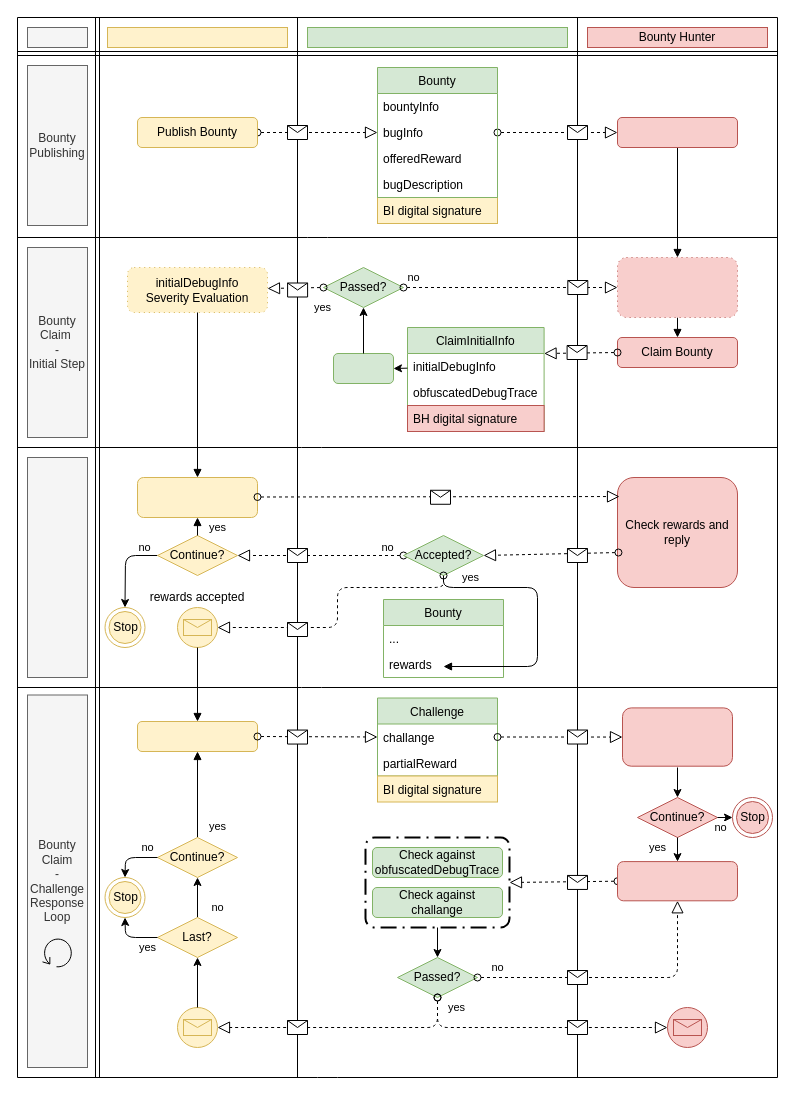
This 796x1096 diagram has some shape labels left out. The centre of each missing label's shape, as x and y in pixels:
"Bounty Claim - Rewards Negotiation" belongs at point 57,567.
"Bounty Issuer" belongs at point 197,37.
"Compute challenge" belongs at point 197,736.
"debugInfo" belongs at point 197,1027.
"Eligibility Check" belongs at point 363,368.
"Get Bounty" belongs at point 677,132.
"Get, recompute and check challange" belongs at point 677,736.
"Offer totalReward and partialRewards" belongs at point 197,497.
"partialReward payment" belongs at point 687,1027.
"Phases" belongs at point 57,37.
"Search and find eligible bug in specified FOSS" belongs at point 677,287.
"Send Solution: next debugInfo" belongs at point 677,881.
"Trusted Third Party" belongs at point 437,37.
